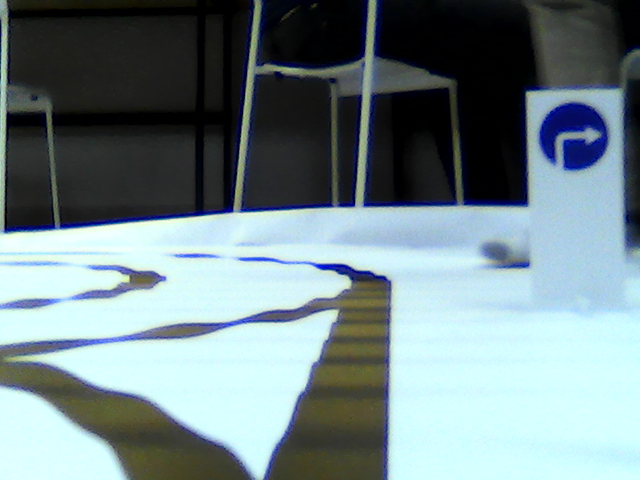Right: (536, 97, 609, 170)
